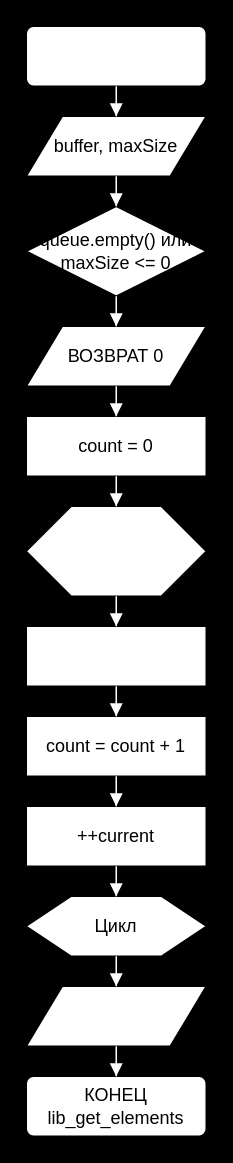
This 233x1163 diagram has some shape labels left out. The shapes that lost their labels are listed below. From the top down, each one's box as (x1, y1, x2, y2) in pixels, then its label:
(25, 25, 206, 86): lib_get_elements НАЧАЛО
(25, 505, 206, 596): Цикл current=end или count>=maxSize
(25, 625, 206, 686): buffer[count] = *current
(25, 985, 206, 1046): ВОЗВРАТ count
